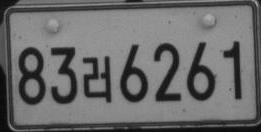1: (220, 40, 249, 99)
2: (153, 42, 182, 102)
3: (50, 46, 77, 104)
6: (119, 43, 149, 103), (186, 41, 216, 101)
8: (17, 46, 46, 105)
러: (82, 55, 112, 102)
